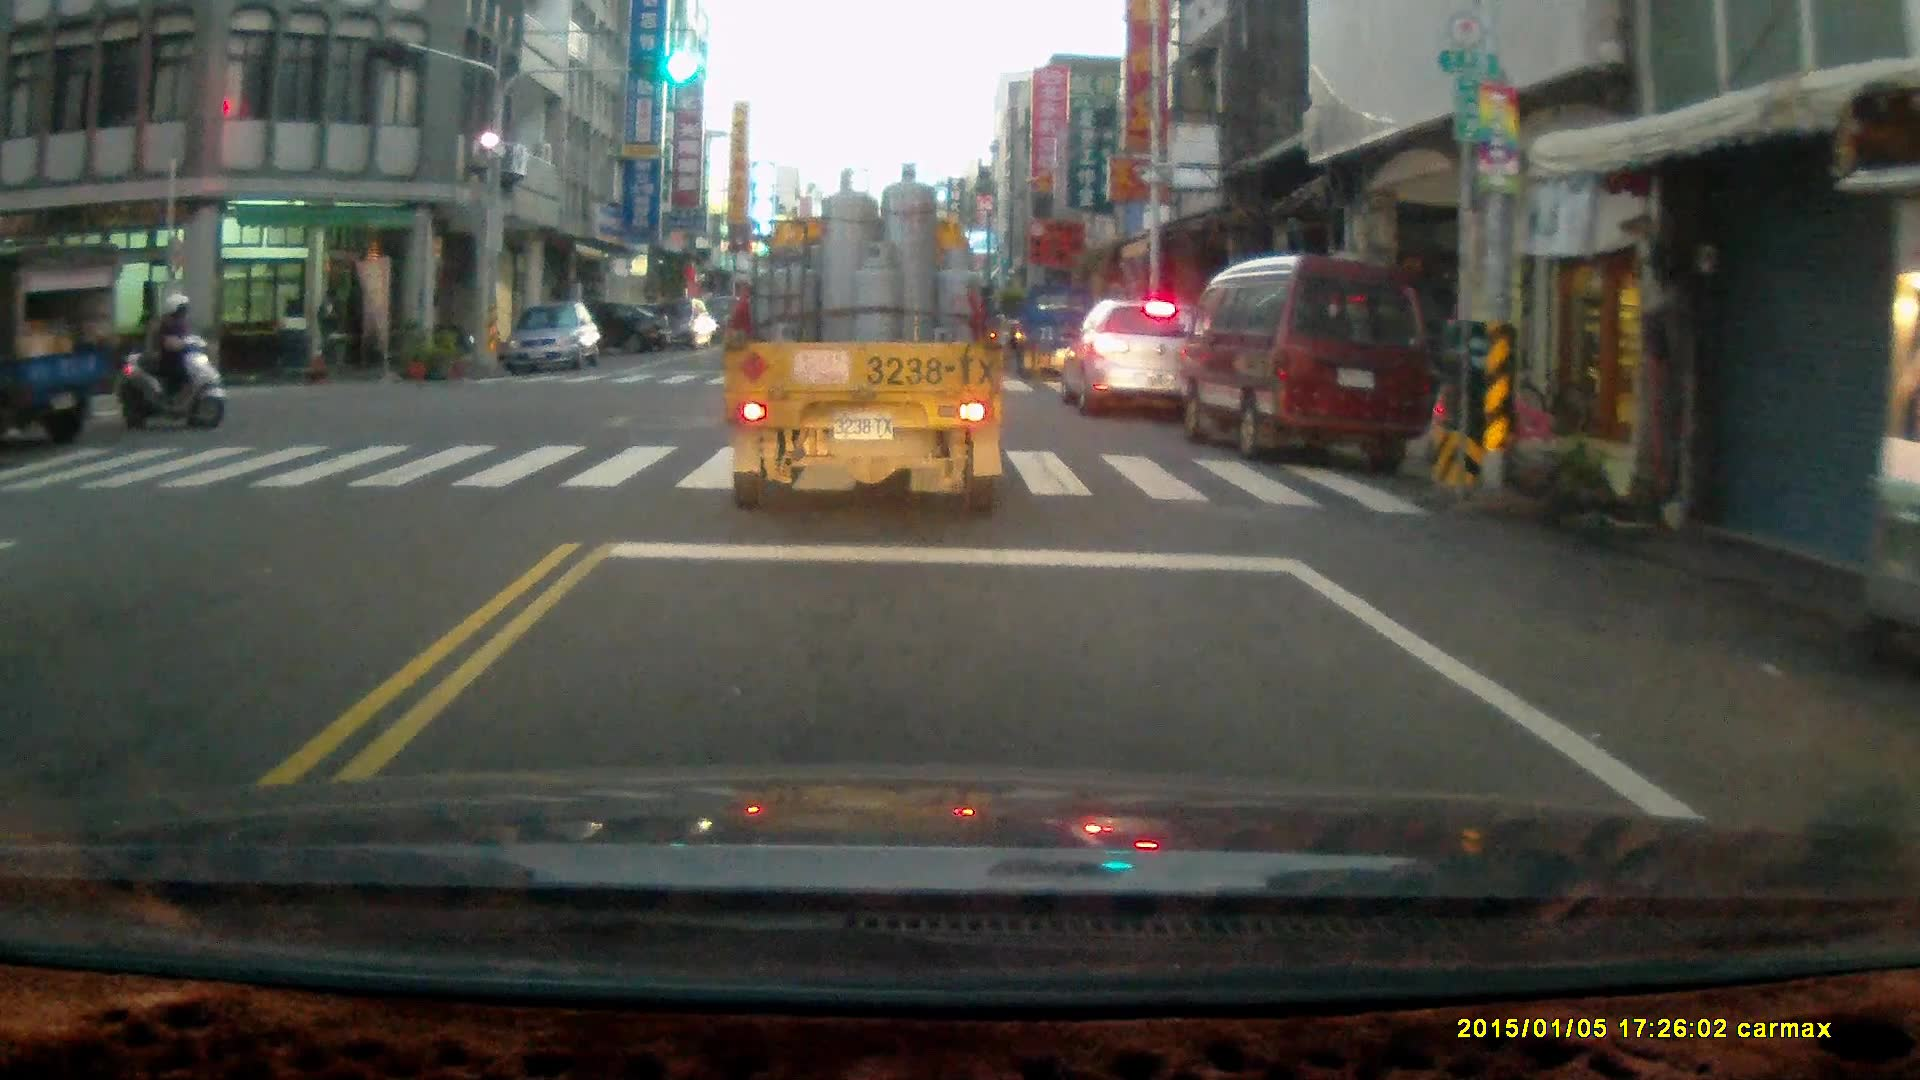pedestrian: (312, 283, 346, 383)
rider: (112, 290, 224, 427)
vehicle: (724, 162, 1013, 513), (1187, 249, 1443, 466), (1, 247, 121, 440), (1063, 289, 1222, 423), (1015, 283, 1100, 385), (502, 301, 603, 382), (539, 298, 671, 359), (631, 296, 717, 348)
